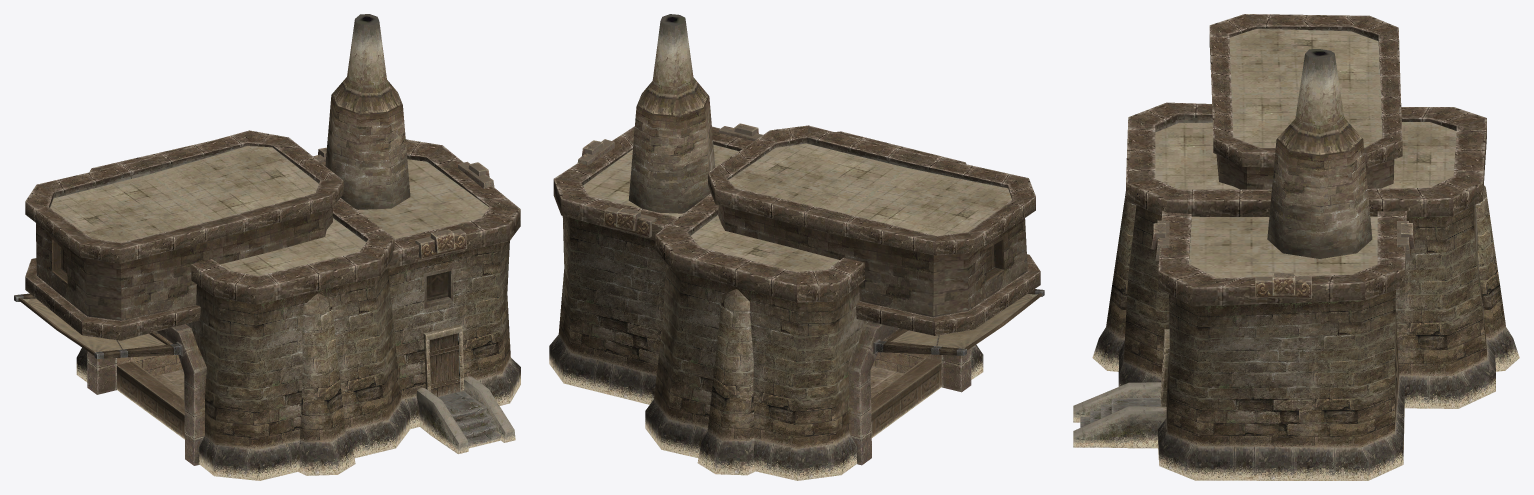
Rendered from OZ_09_sn_T04bldg05A.glb.
The picture shows the model from 3 angles, left to right: view 1: azimuth 30°, elevation 25°; view 2: azimuth 150°, elevation 25°; view 3: azimuth 270°, elevation 25°; orthographic projection. The views are drawn at different scales.
Parts seen in each view (by area): view 1: OM_09_sn_T04bldg05A; view 2: OM_09_sn_T04bldg05A; view 3: OM_09_sn_T04bldg05A.
Part boxes in pixels (x1,y1,x2,y2): OM_09_sn_T04bldg05A: [14, 14, 520, 480]; OM_09_sn_T04bldg05A: [549, 14, 1044, 480]; OM_09_sn_T04bldg05A: [1073, 14, 1519, 480].
Bounding box in the file's own units: 17.83 × 13.92 × 14.96.
Materials: 10 (10 with a texture image).
